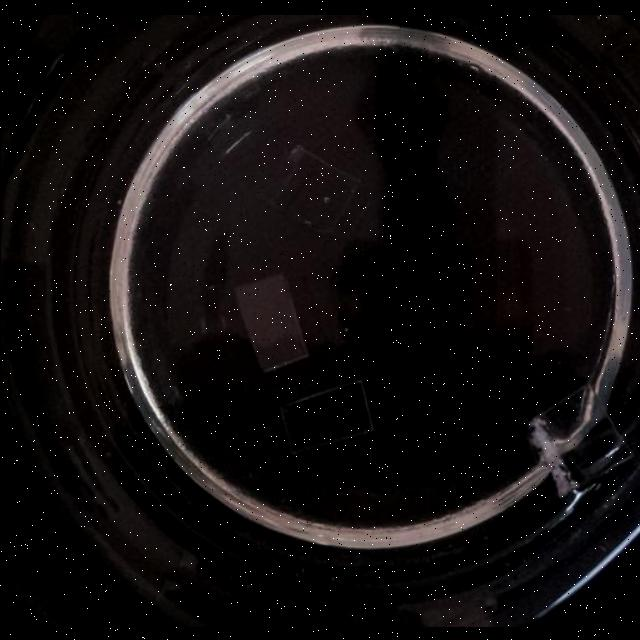Film: (526, 377, 638, 499), (260, 144, 364, 243), (233, 273, 309, 372), (276, 378, 376, 452)
